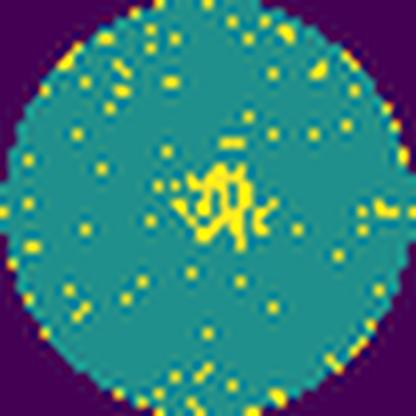Center: (171, 157, 280, 254)
